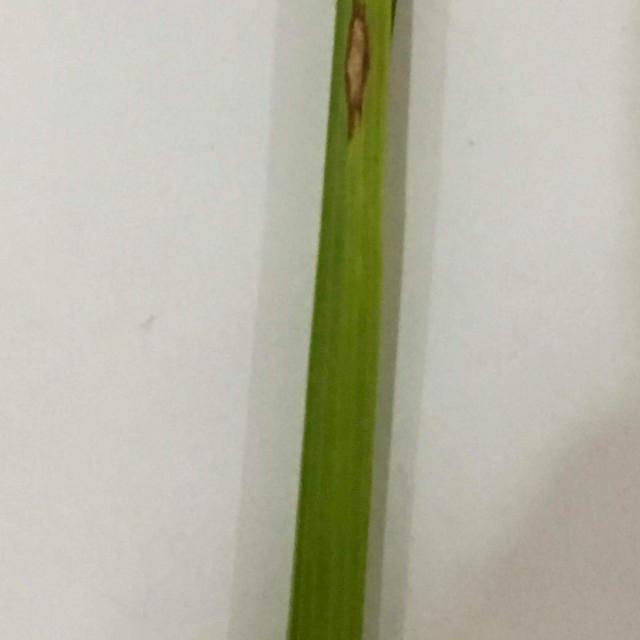Leaf_Blast: (337, 0, 375, 136)
